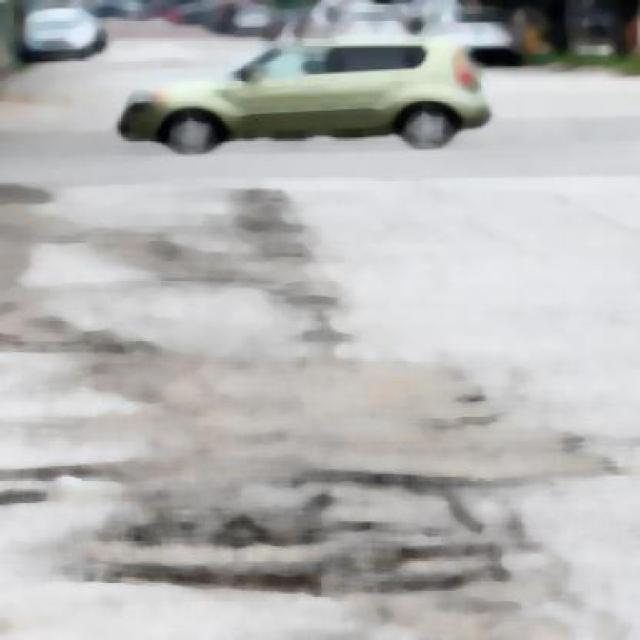Pothole: (136, 488, 462, 584), (268, 286, 341, 314), (275, 284, 313, 302), (308, 296, 352, 301)
